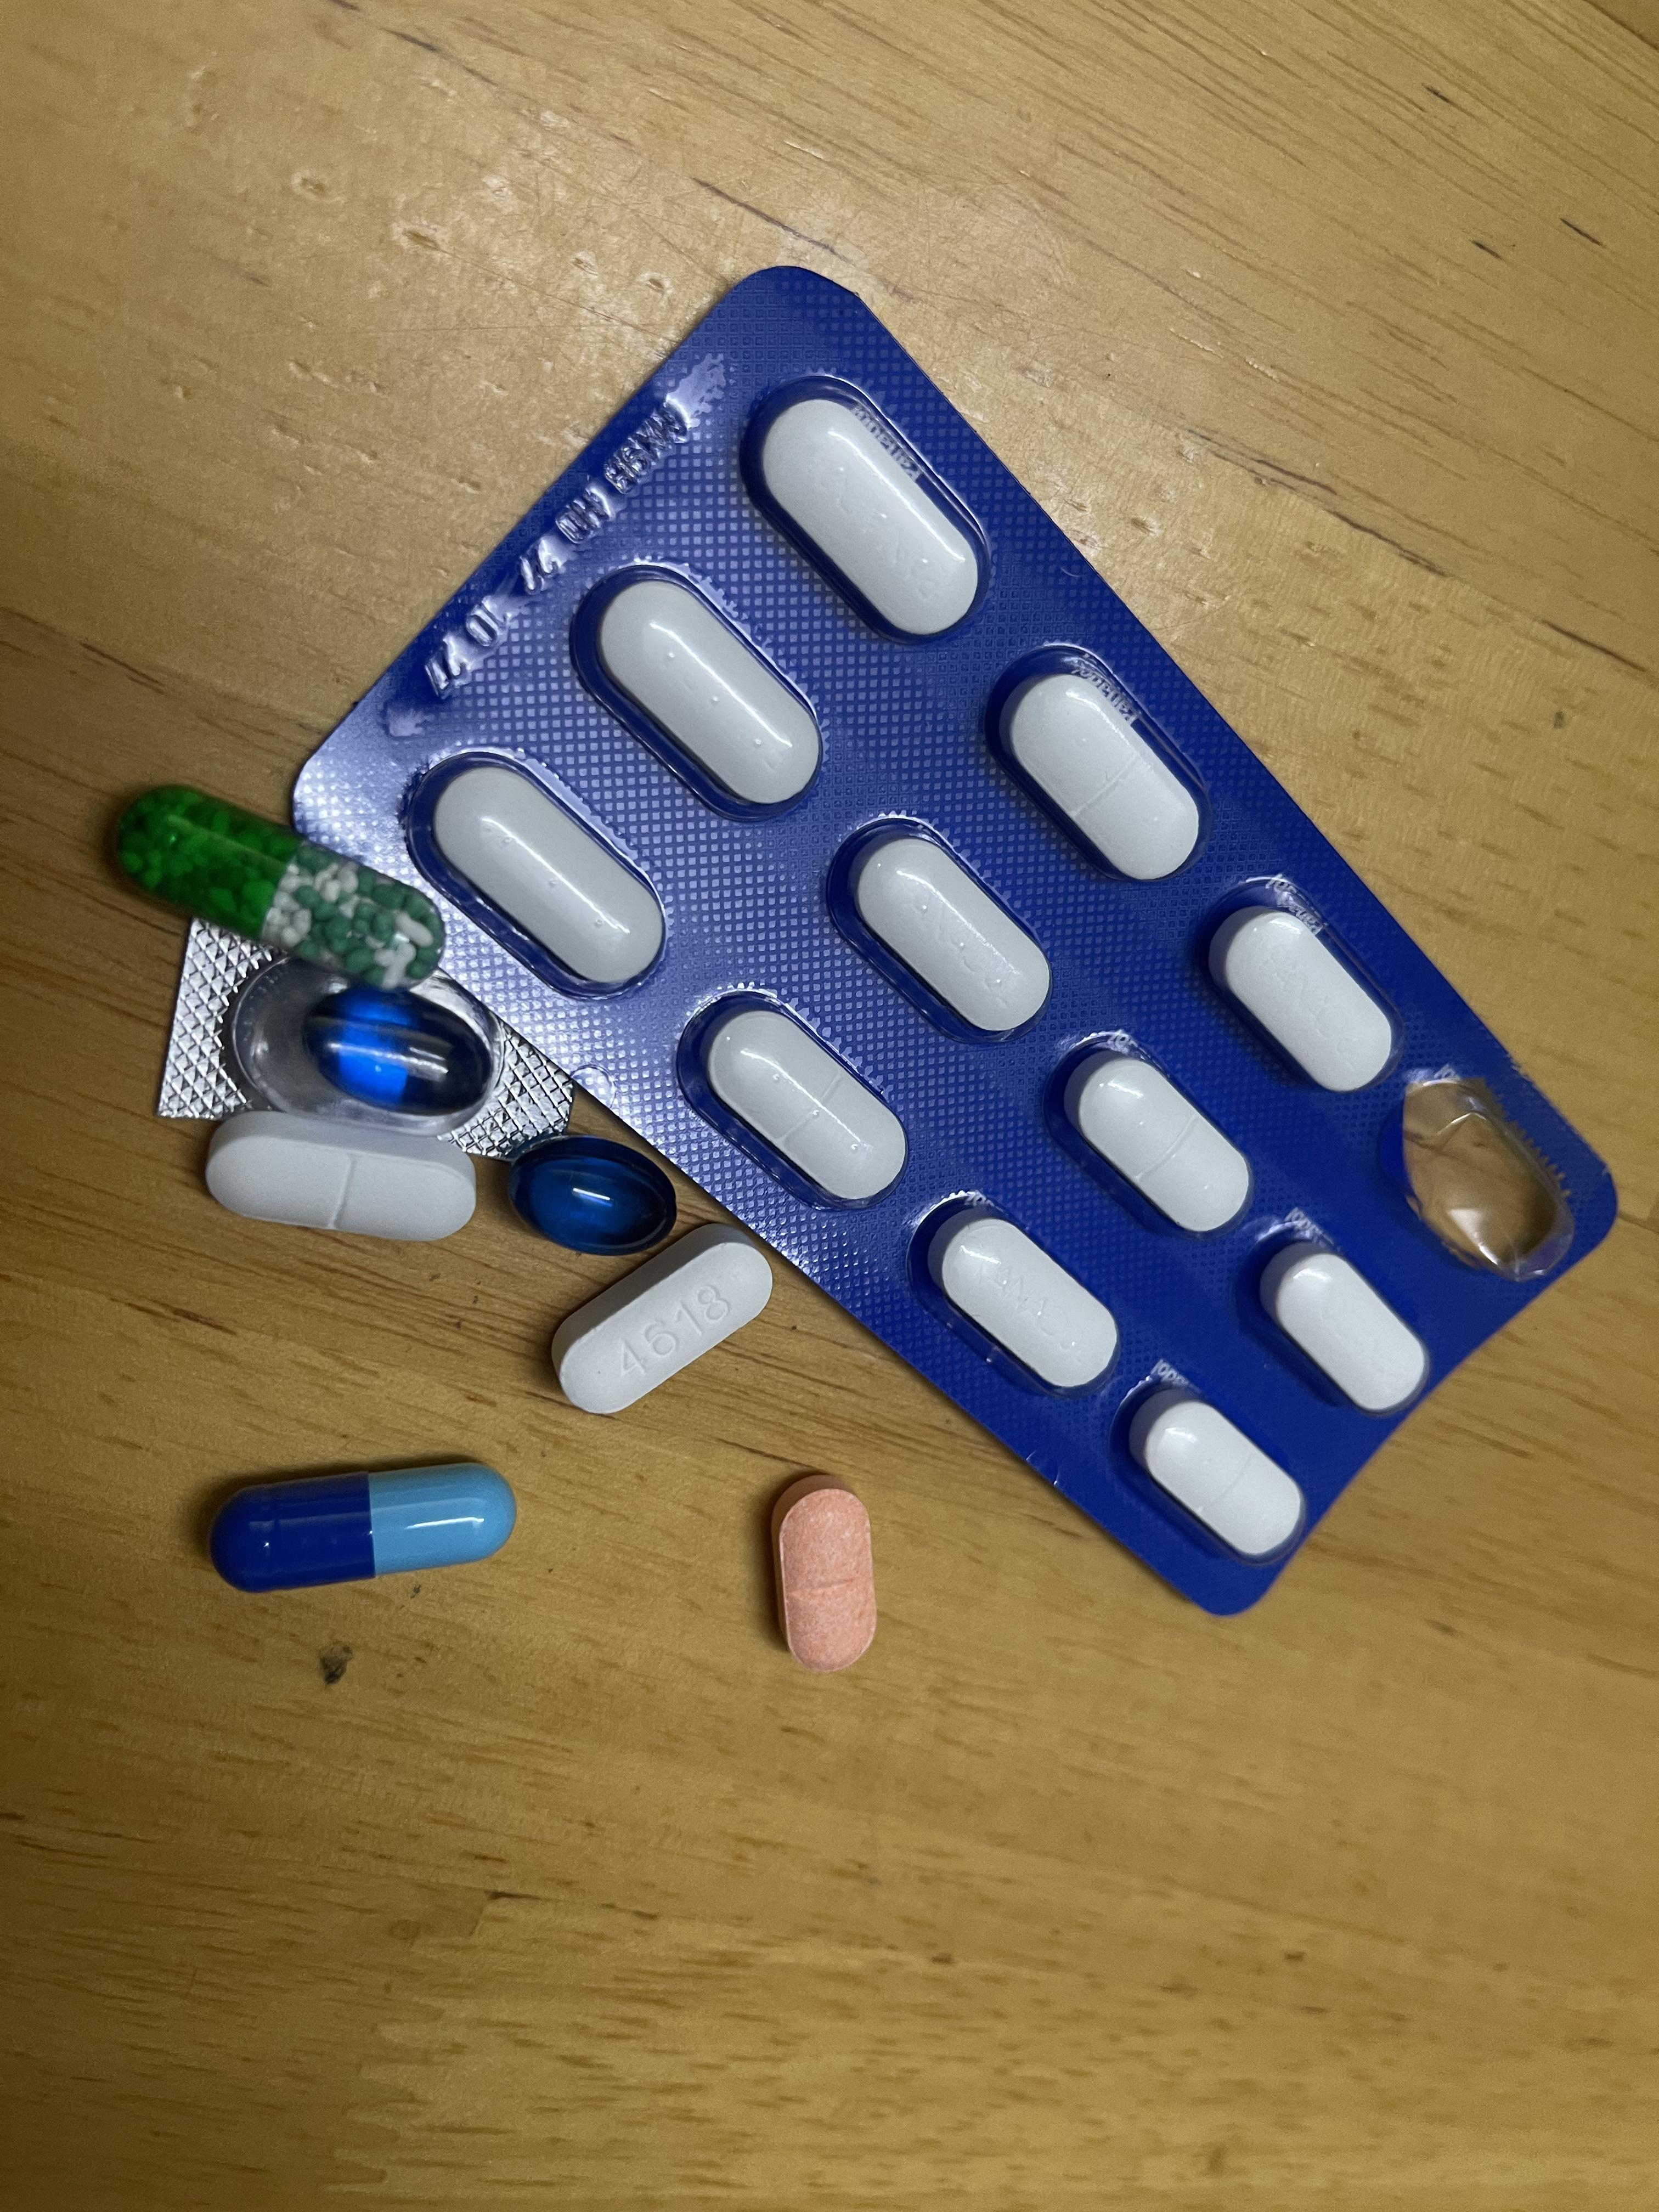Lincomyxin_500mg: (300, 982, 491, 1118), (511, 1141, 669, 1252)
Loratadine_10mg: (770, 1475, 878, 1672)
Paracetamol_350mg: (741, 374, 997, 646), (411, 751, 673, 1000), (988, 648, 1209, 885), (598, 577, 816, 806), (840, 826, 1054, 1047), (1049, 1042, 1251, 1240), (708, 1017, 911, 1211), (1213, 906, 1398, 1090), (932, 1216, 1115, 1395), (1255, 1240, 1432, 1420), (207, 1125, 474, 1242), (1126, 1390, 1304, 1562)
Paracetamol_500mg: (558, 1240, 767, 1416)
Paracetamol_650mg: (119, 789, 436, 984)
pill: (214, 1467, 509, 1587)
